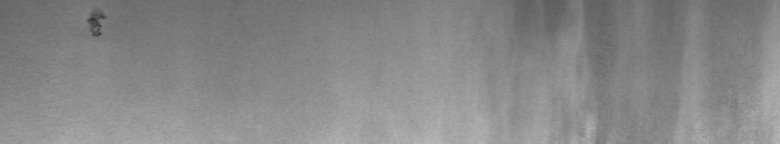fi: (82, 4, 108, 44)
